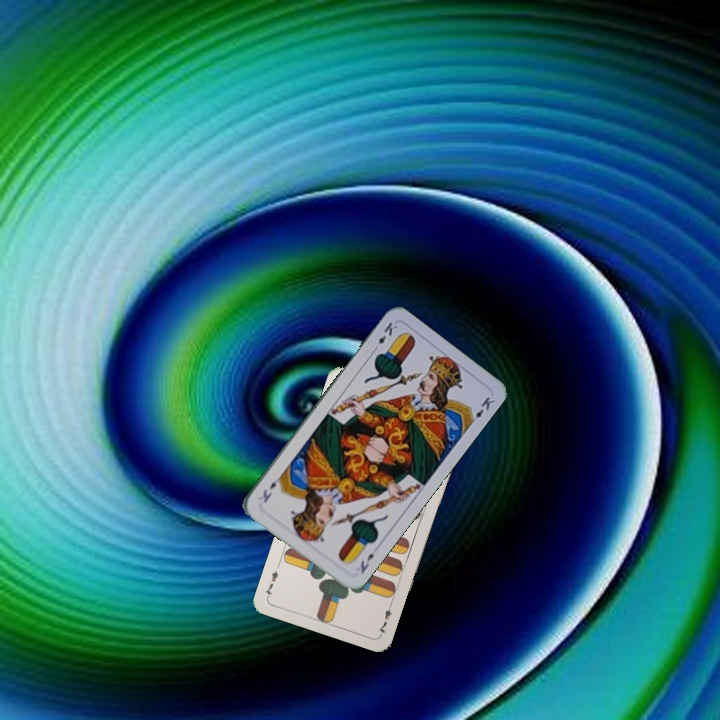E7: (374, 597, 396, 637)
EK: (369, 318, 400, 354), (356, 549, 377, 576)
